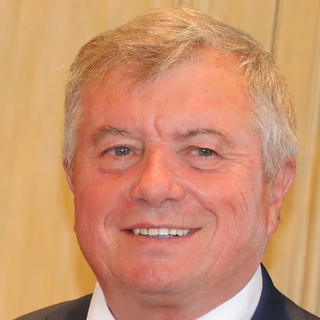eye: (97, 140, 143, 164), (180, 141, 228, 164)
